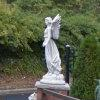Statue: (30, 6, 68, 81)
